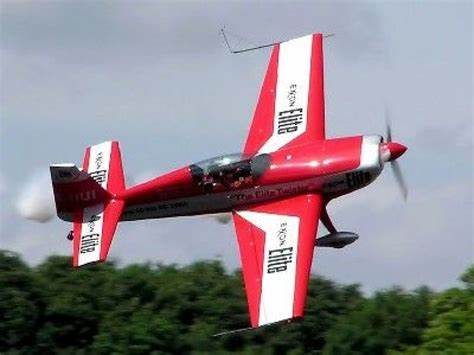Aeronef_de_loisir: (47, 22, 415, 343)
